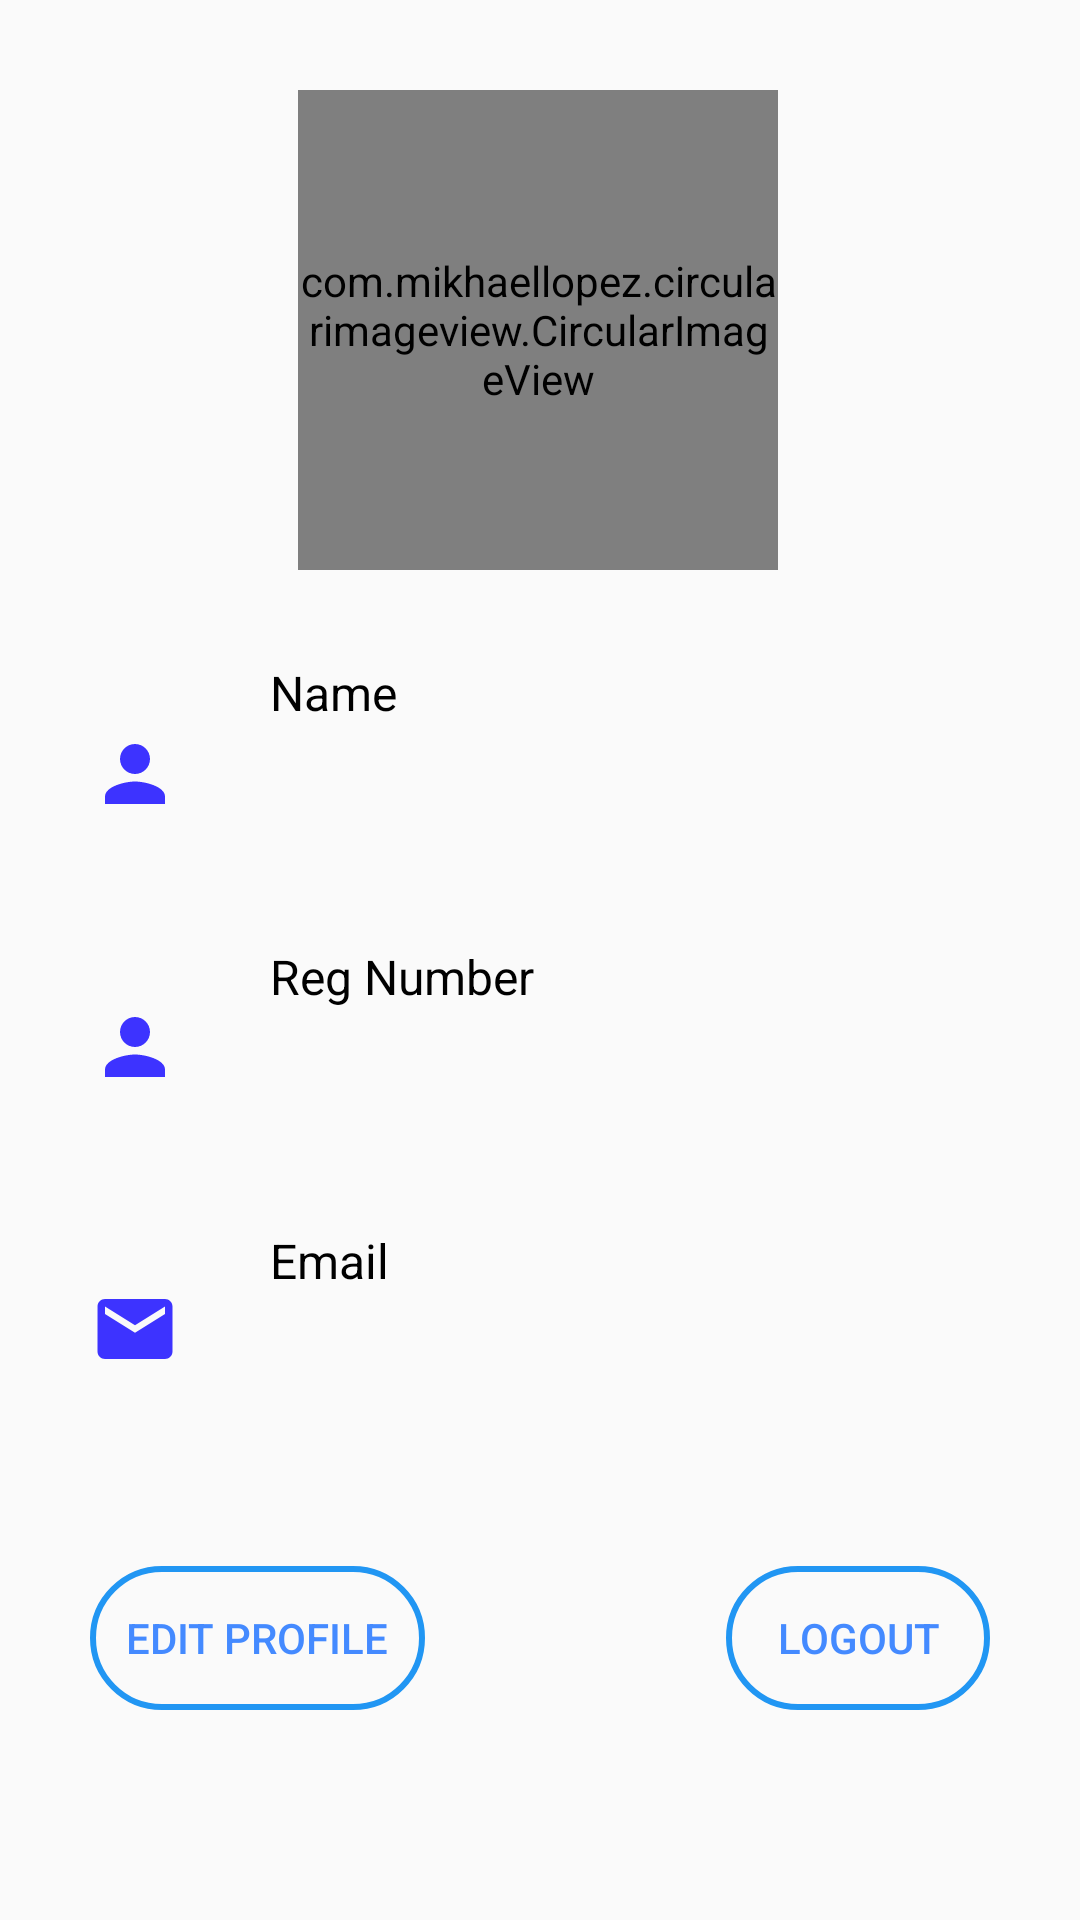

Named icons in this screenshot (1080w x 1920h) and their bounding boxes, [left=x1, top=y1, right=x2, bottom=y2]:
profile: [left=105, top=744, right=165, bottom=804], [left=105, top=1017, right=165, bottom=1077]
